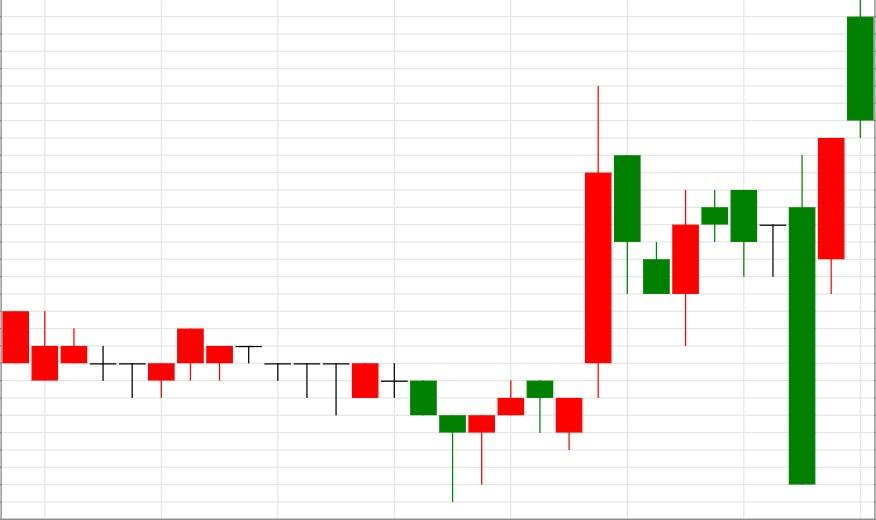bullish_engulfing_rise: (584, 85, 700, 398)
hammer_rise: (177, 327, 467, 501)
